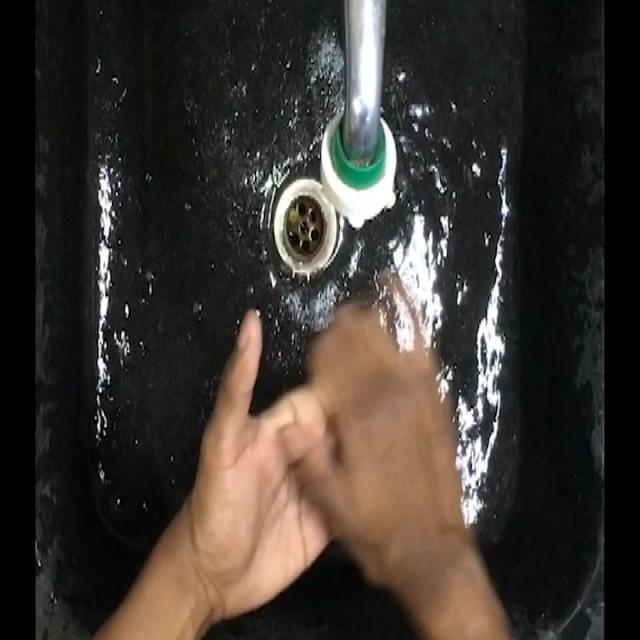step_5: (192, 295, 473, 627)
